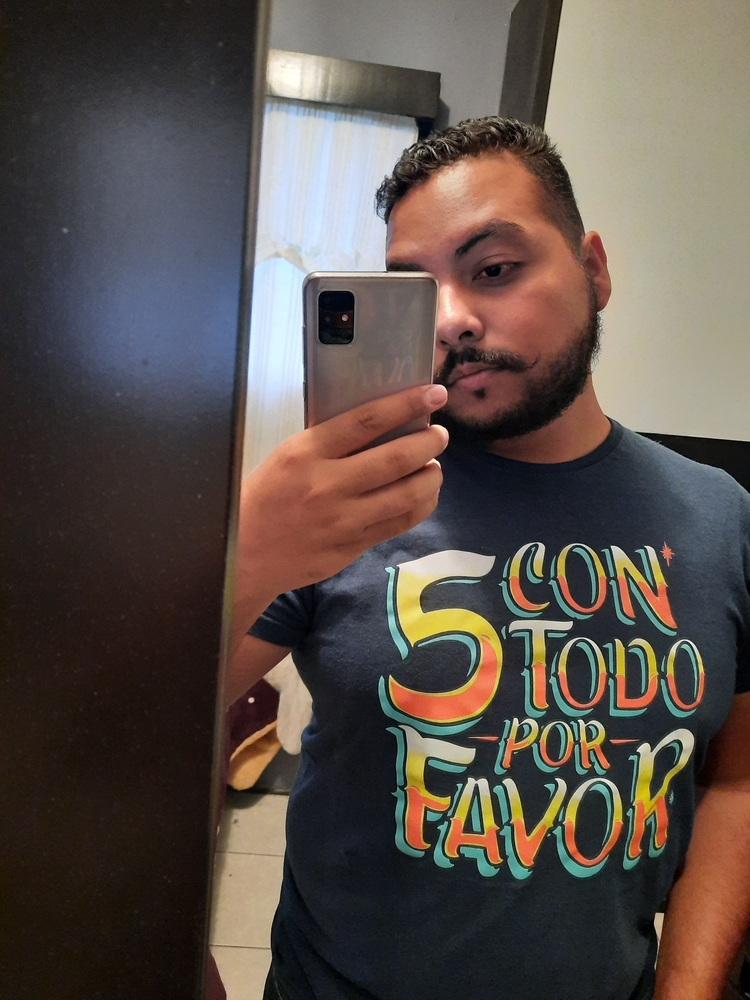Yoshi: (357, 102, 682, 492)
